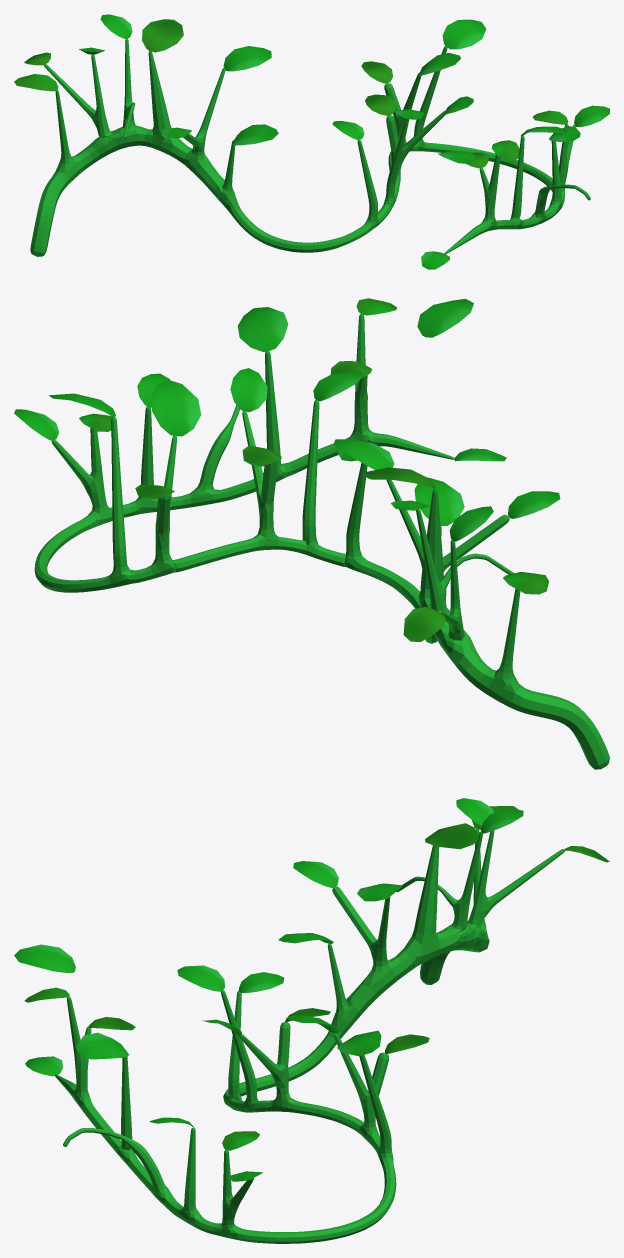
File: Pumpkin2.fbx
3 views of the same model, one above another, from view 1: azimuth 30°, elevation 25°; view 2: azimuth 150°, elevation 25°; view 3: azimuth 270°, elevation 25° (orthographic). The views are drawn at different scales.
Parts seen in each view (by area): view 1: 2; view 2: 2; view 3: 2.
Boxes of the visible parts, left/top/right/bottom form: 2: left=14, top=14, right=609, bottom=269; 2: left=14, top=298, right=609, bottom=769; 2: left=14, top=798, right=609, bottom=1243.
Size of the model in its own units: 156 by 56.2 by 129.
